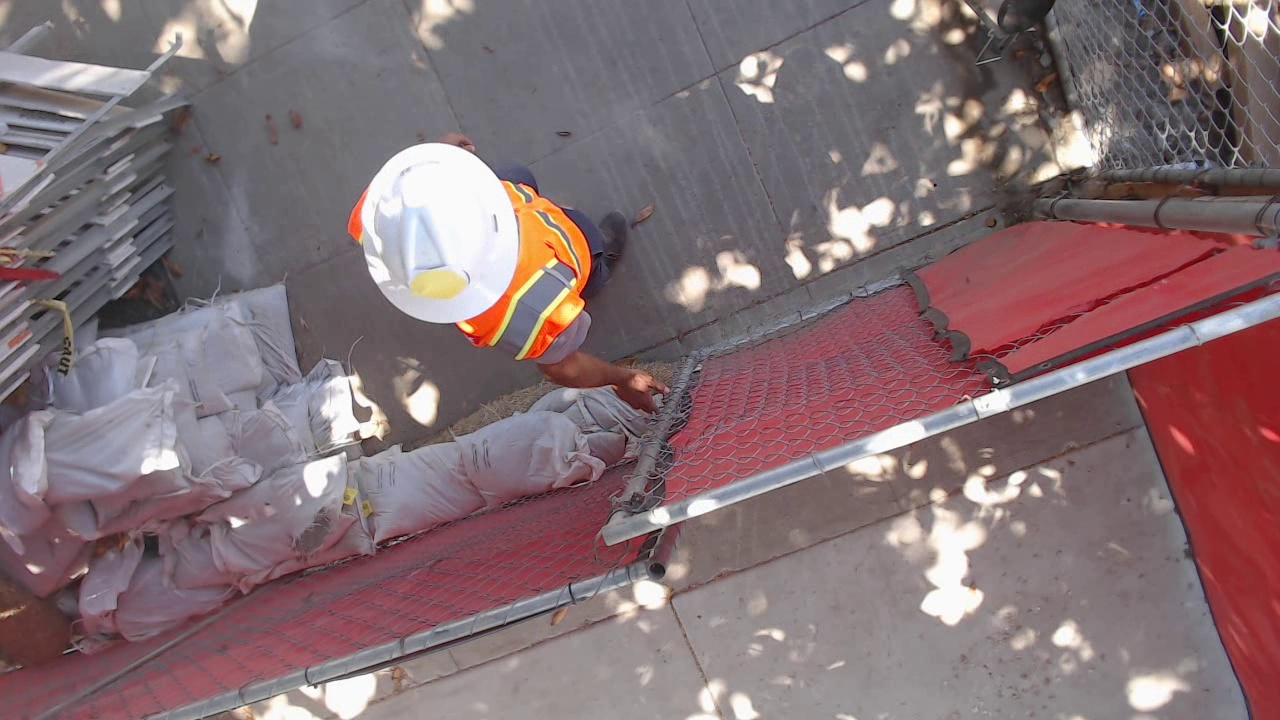green: (823, 578, 879, 641)
hardhat: (784, 512, 953, 666)
person: (616, 248, 953, 669)
safetyvest: (685, 327, 856, 590)
